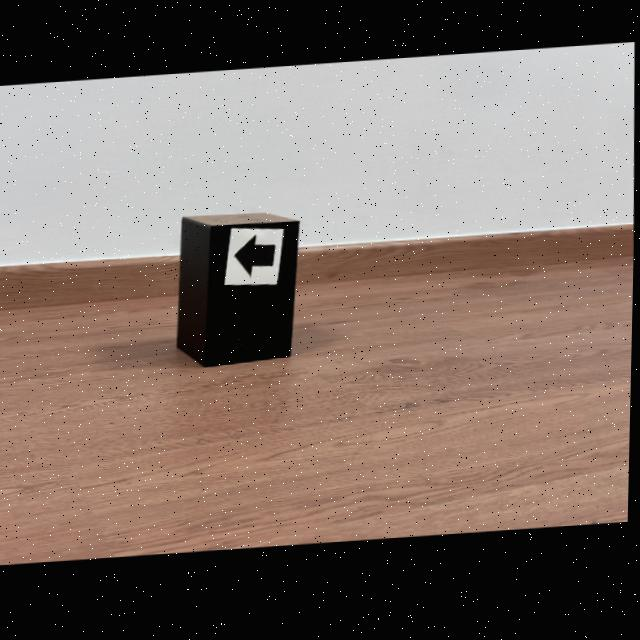LEFT: (236, 238, 275, 279)
